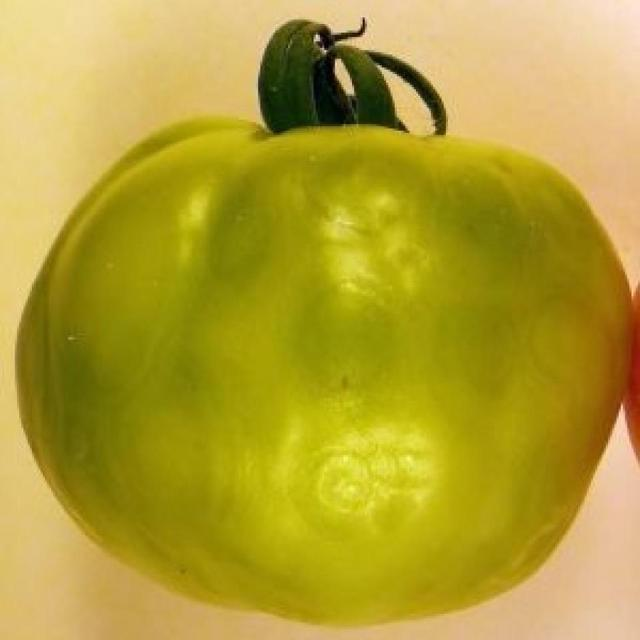Spotted wilt Virus Fruit: (11, 72, 423, 419)
